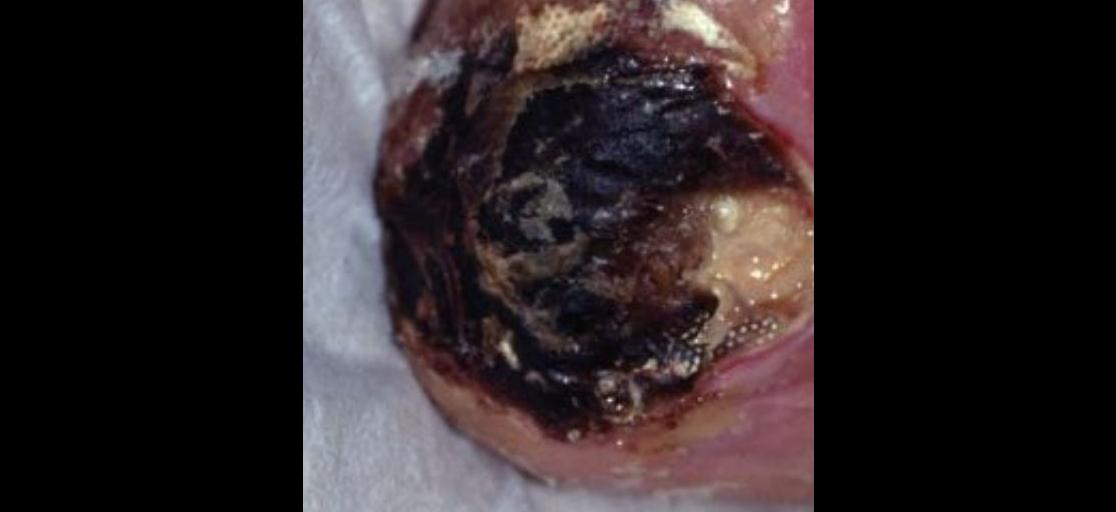Stage4: (390, 0, 814, 465)
